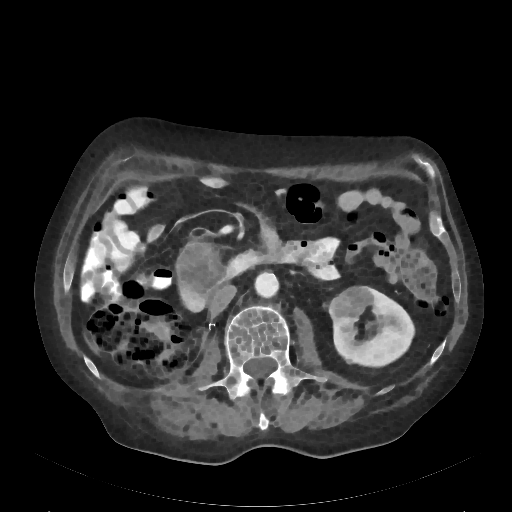Lesion: (329, 284, 370, 317)
